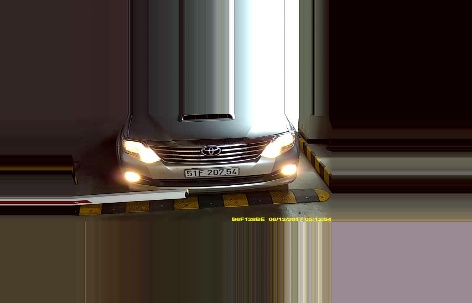plate: (182, 164, 239, 175)
